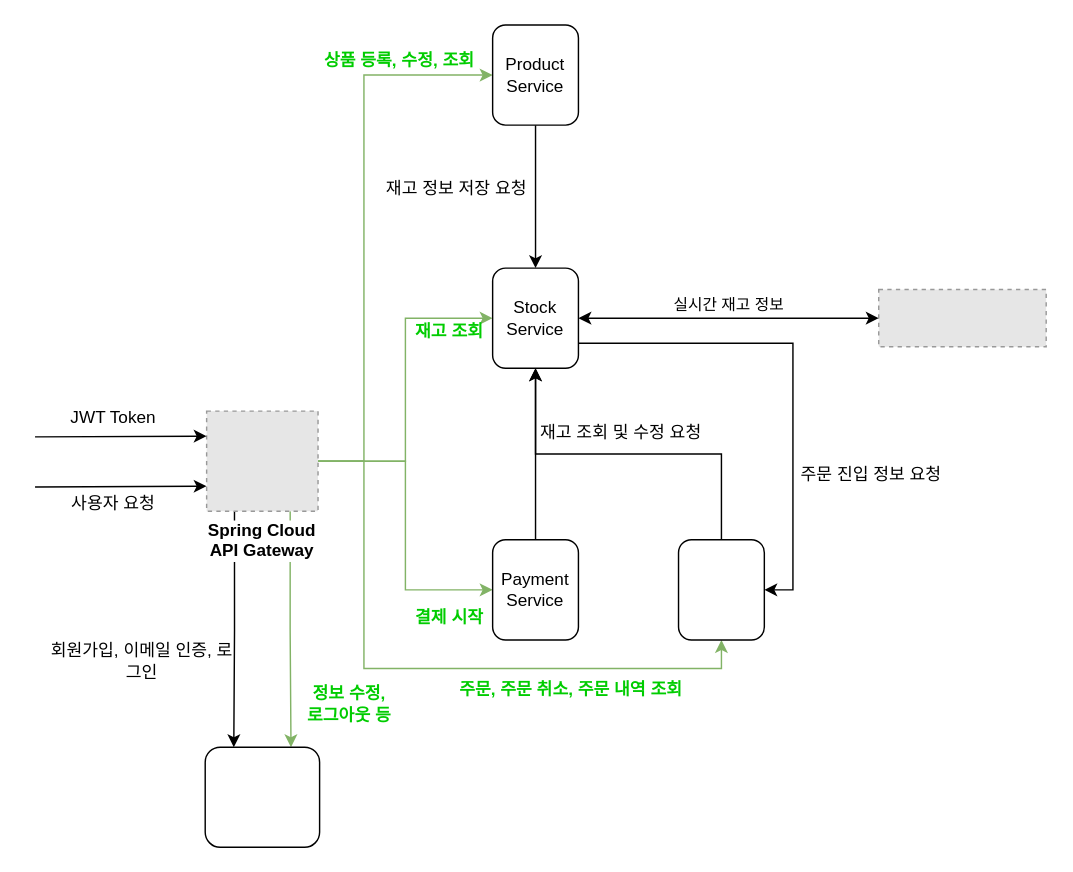
The diagram is 1073 pixels wide and 872 high, and some of its shapes have lost their labels. Grey dashed boxes stand in for pictures. The centre of each missing label's shape, as x and y in pixels:
Purchase Service: point (720, 589)
User Service: point (262, 796)
